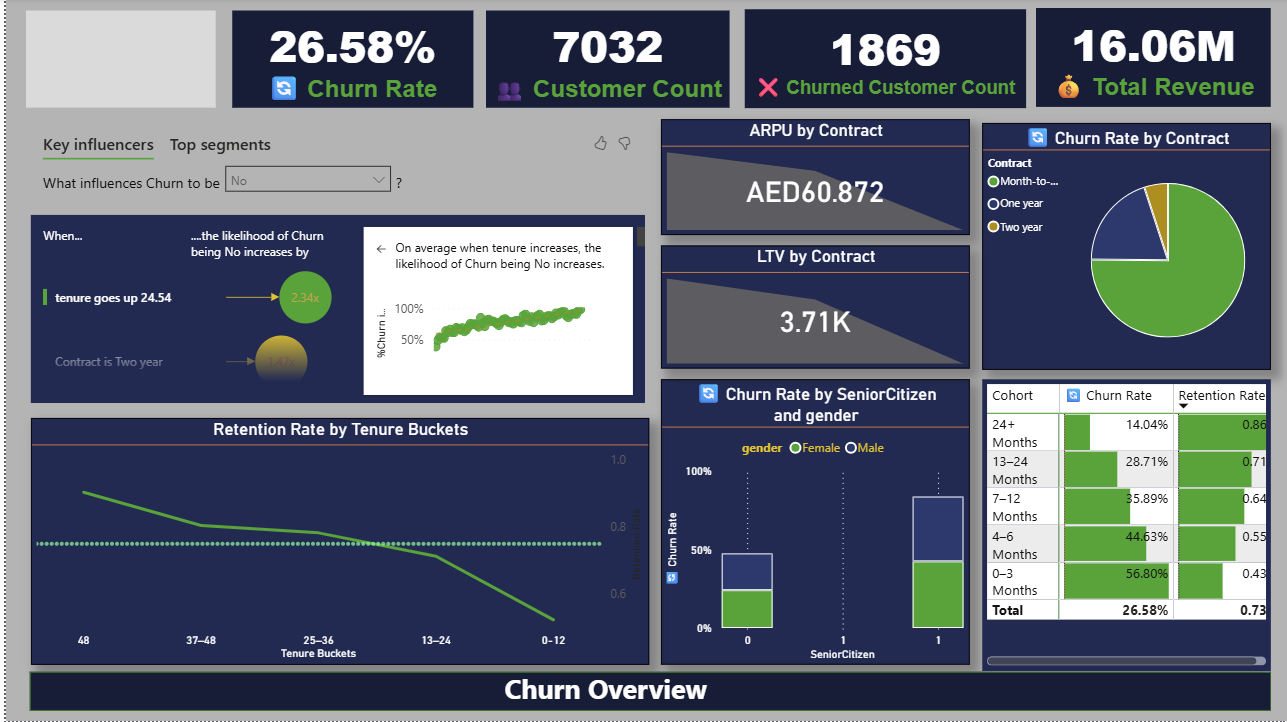

The dashboard page shown, as its layout file describes it:
{"tool":"powerbi","page":{"name":"CHURN OVERVIEW","canvas":[1280,720],"ordinal":0},"visuals":[{"type":"card","fields":{"Values":["Measure.Churn Rate"]},"box":[225.2,13,239.6,96.7],"z":0},{"type":"shape","box":[23.1,669.8,1235.5,39],"z":0,"group":"g1"},{"type":"card","fields":{"Values":["Measure.👥 Customer Count"]},"box":[477.8,13,242.5,96.7],"z":1000},{"type":"textbox","box":[418.6,664,355.1,49.1],"z":1000,"group":"g1"},{"type":"card","fields":{"Values":["Measure.Churned Customer Count"]},"box":[734.7,11.5,280,98.2],"z":2000},{"type":"card","fields":{"Values":["Measure.Total Revenue"]},"box":[1024.8,10.1,233.8,98.2],"z":3000},{"type":"pieChart","fields":{"Category":["dim_contract.Contract"],"Y":["Measure.🔄 Churn Rate"]},"box":[971.4,124.1,287.2,245.4],"z":4000},{"type":"columnChart","fields":{"Category":["dim_customer.SeniorCitizen"],"Y":["Measure.Churn Rate"],"Series":["dim_customer.gender"]},"box":[652.4,379.6,307.4,284.3],"z":5000},{"type":"lineChart","fields":{"Category":["dim_customer.Tenure Buckets"],"Y2":["Measure.Retention Rate"]},"box":[24.5,418.6,614.9,245.4],"z":6000},{"type":"group","id":"g1","title":"Group 1","box":[23.1,664,1235.5,49.1],"z":7000},{"type":"keyDriversVisual","fields":{"Target":["dim_customer.Churn"],"ExplainBy":["dim_services.InternetService","dim_contract.Contract","dim_customer.SeniorCitizen","Sum(fact_billing.MonthlyCharges)","dim_customer.tenure","dim_services.OnlineSecurity","dim_services.PhoneService","dim_services.TechSupport","dim_services.OnlineBackup","dim_services.MultipleLines","dim_services.DeviceProtection","dim_services.StreamingMovies"]},"box":[20.2,121.2,620.7,287.2],"z":8000},{"type":"actionButton","title":"Overview","box":[20.2,13,189.1,96.7],"z":9000},{"type":"kpi","fields":{"Indicator":["Measure.ARPU"],"TrendLine":["dim_contract.Contract"]},"box":[652.4,121.2,307.4,115.5],"z":10000},{"type":"pivotTable","fields":{"Rows":["dim_customer.Cohort"],"Values":["Measure.🔄 Churn Rate","Measure.Retention Rate"]},"box":[971.4,379.6,287.2,290.1],"z":11000},{"type":"kpi","fields":{"TrendLine":["dim_contract.Contract"],"Indicator":["Measure.LTV"]},"box":[652.4,246.8,307.4,122.7],"z":12000}]}

Visuals, with their boxes in screenshot pixels (x1, y1, x2, y2), scaled from the page's 1280x720 canvas onto the 1287x722 screenshot:
card - Measure.Churn Rate: left=226, top=13, right=467, bottom=110
shape: left=23, top=672, right=1265, bottom=711
card - Measure.👥 Customer Count: left=480, top=13, right=724, bottom=110
textbox: left=421, top=666, right=778, bottom=715
card - Measure.Churned Customer Count: left=739, top=12, right=1020, bottom=110
card - Measure.Total Revenue: left=1030, top=10, right=1265, bottom=109
pieChart - dim_contract.Contract x Measure.🔄 Churn Rate: left=977, top=124, right=1265, bottom=371
columnChart - dim_customer.SeniorCitizen x Measure.Churn Rate: left=656, top=381, right=965, bottom=666
lineChart - dim_customer.Tenure Buckets x Measure.Retention Rate: left=25, top=420, right=643, bottom=666
"Group 1" group: left=23, top=666, right=1265, bottom=715
keyDriversVisual - dim_customer.Churn x dim_services.InternetService: left=20, top=122, right=644, bottom=410
"Overview" actionButton: left=20, top=13, right=210, bottom=110
kpi - Measure.ARPU x dim_contract.Contract: left=656, top=122, right=965, bottom=237
pivotTable - dim_customer.Cohort x Measure.🔄 Churn Rate: left=977, top=381, right=1265, bottom=672
kpi - dim_contract.Contract x Measure.LTV: left=656, top=247, right=965, bottom=371
